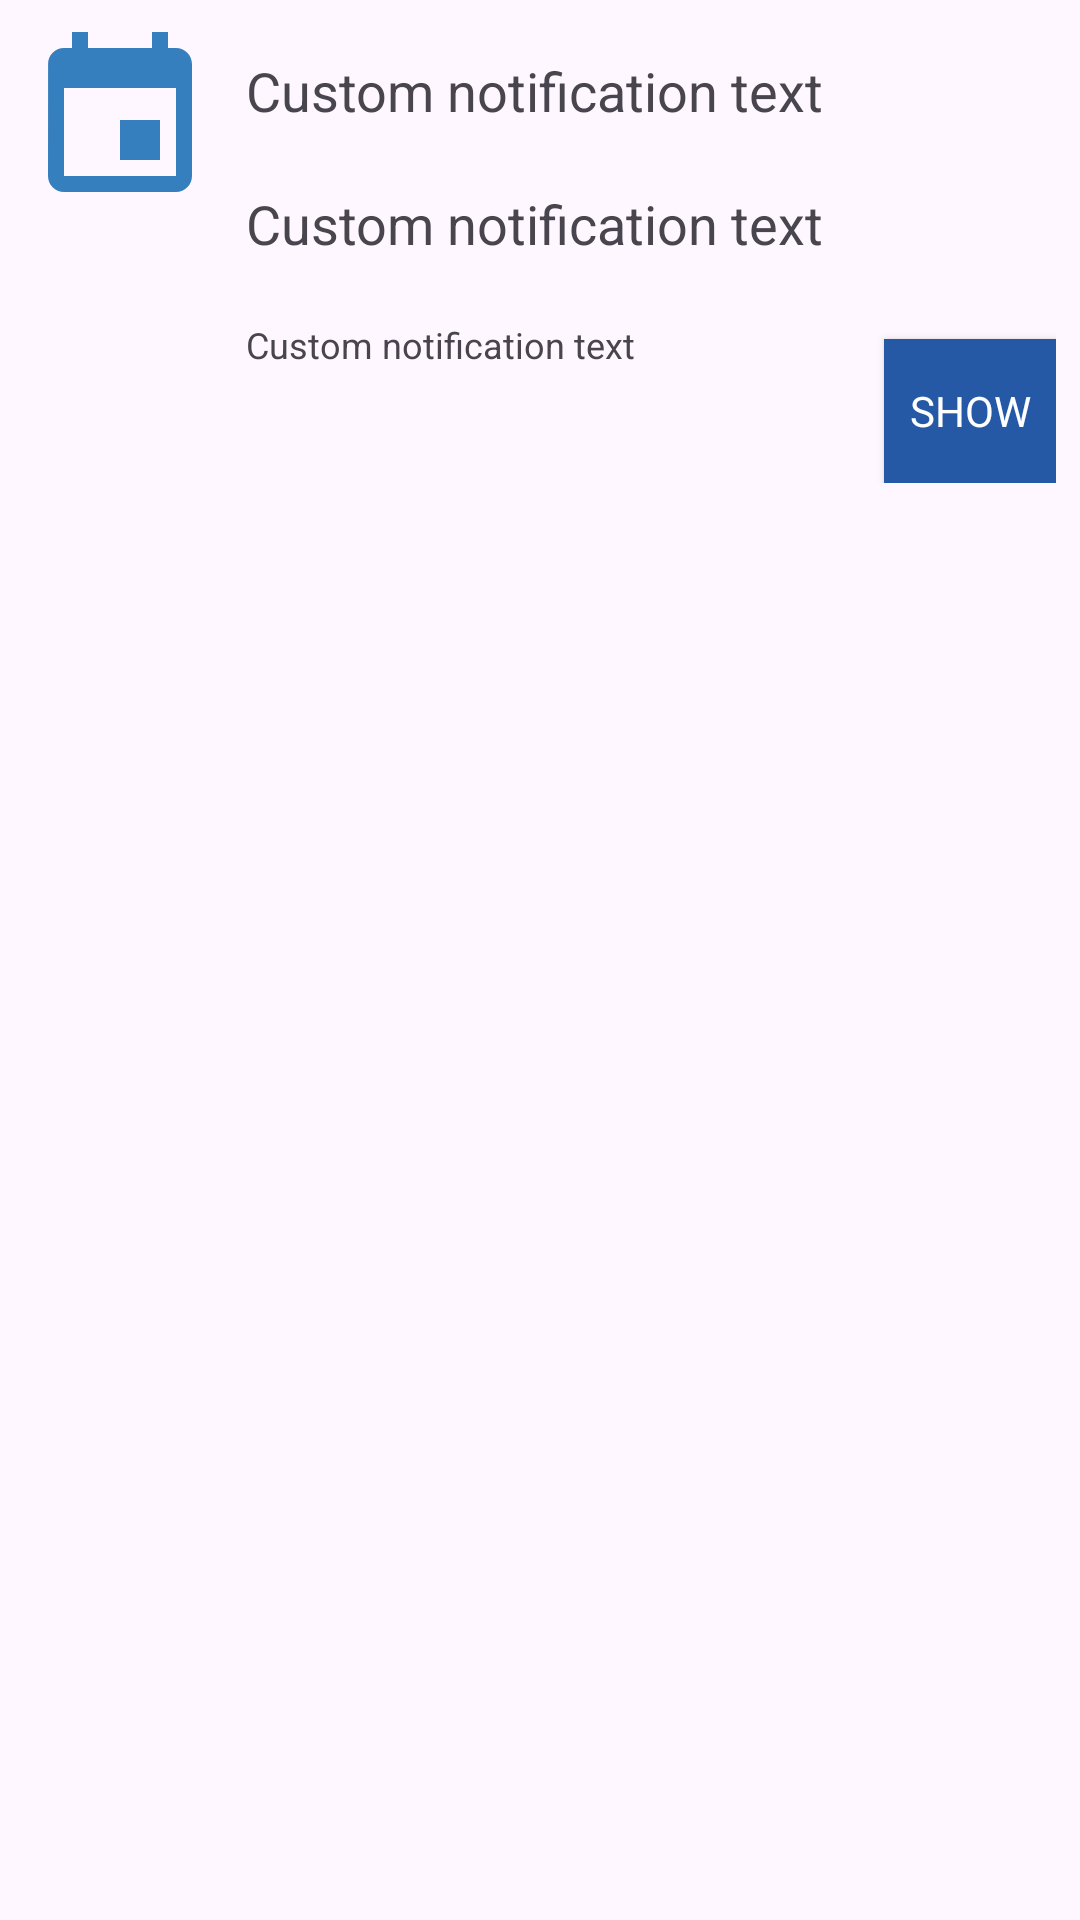

Icons on this 1080px×1920px Android screen, each with the point to tap as point (x, y):
event: point (120, 112)
